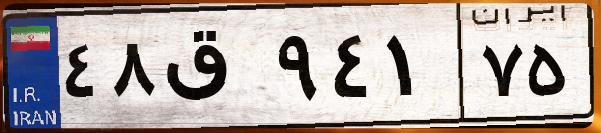1: (385, 28, 445, 110)
4: (330, 28, 385, 110), (57, 26, 110, 100)
5: (525, 38, 570, 115)
7: (475, 38, 525, 113)
8: (110, 28, 158, 98)
9: (270, 28, 330, 110)
ق: (158, 20, 270, 120)
